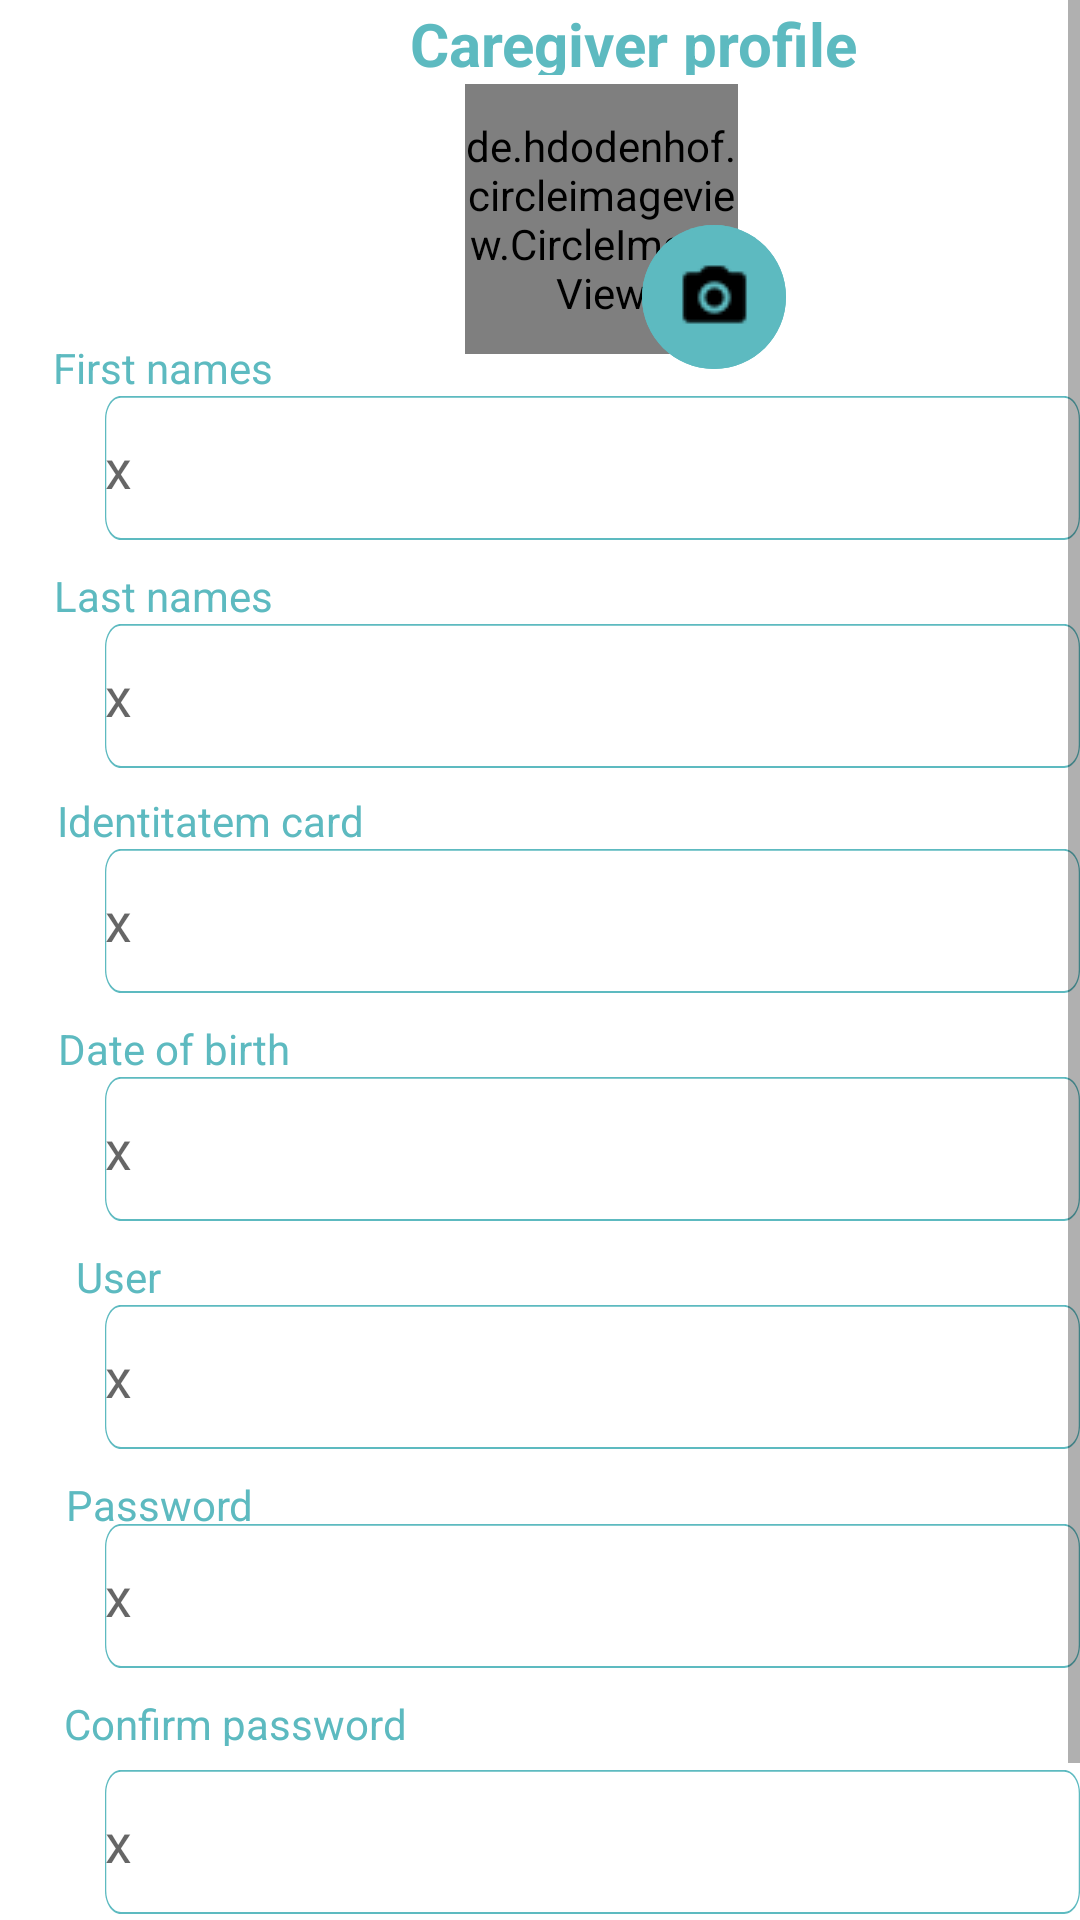

Locate icon controls on the screen. Image size 1080×1920, boxes as {"left": x1, "top": y1, "right": x2, "bottom": y2}.
cam negra: {"left": 642, "top": 225, "right": 786, "bottom": 369}
